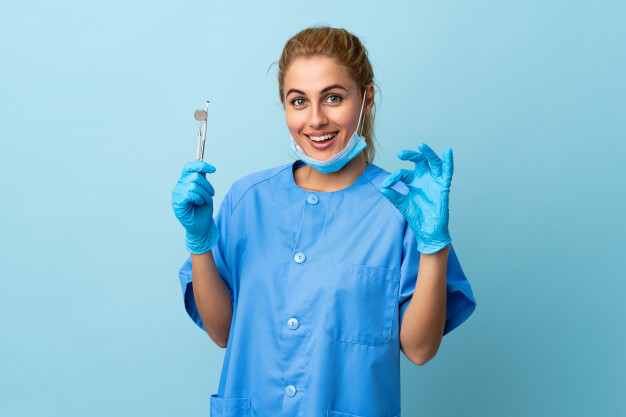mask_weared_incorrect: (276, 62, 376, 177)
